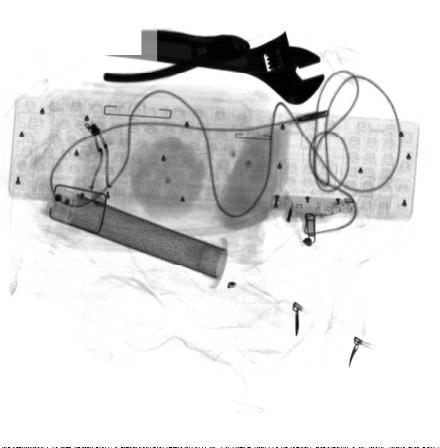Pliers: (101, 27, 250, 84)
Wrench: (105, 27, 324, 106)
